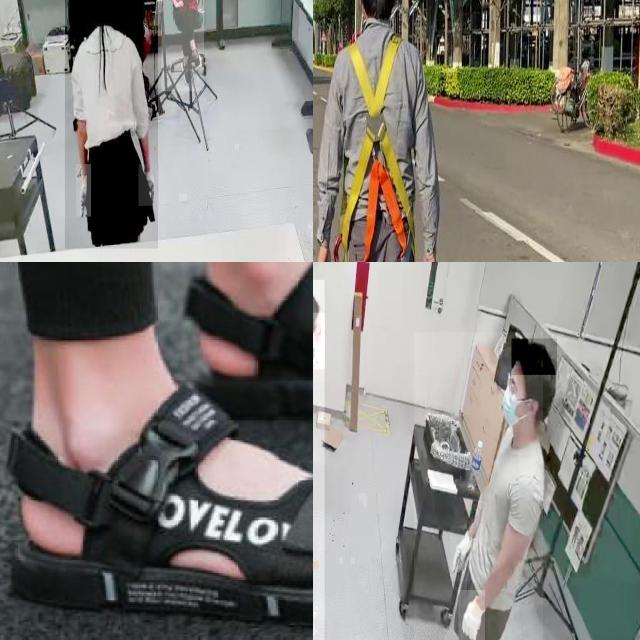Harness: (335, 35, 415, 262)
Sandals: (0, 325, 313, 626)
face_mask: (499, 366, 525, 432), (313, 312, 325, 369)
hand_glove: (458, 590, 485, 640), (450, 526, 472, 582), (138, 164, 160, 207), (76, 164, 92, 218)
hand_noglove: (174, 0, 183, 7)
head_nohelmet: (512, 338, 558, 376), (313, 287, 320, 315)
person: (414, 332, 543, 640), (65, 0, 158, 249), (161, 0, 204, 92)
shoes: (178, 58, 193, 87), (189, 46, 201, 72)
